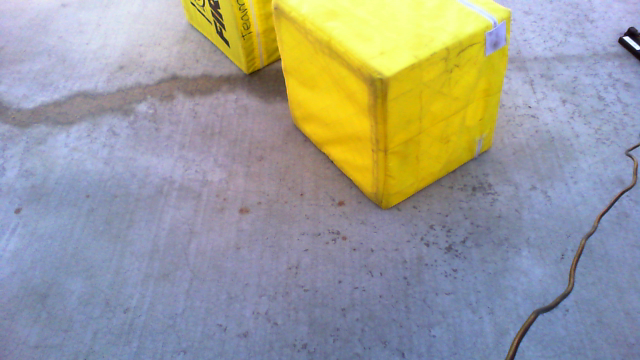cube: (270, 1, 514, 208), (178, 1, 339, 76)
